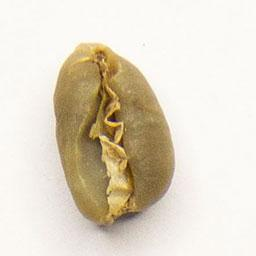longberry: (50, 39, 179, 231)
